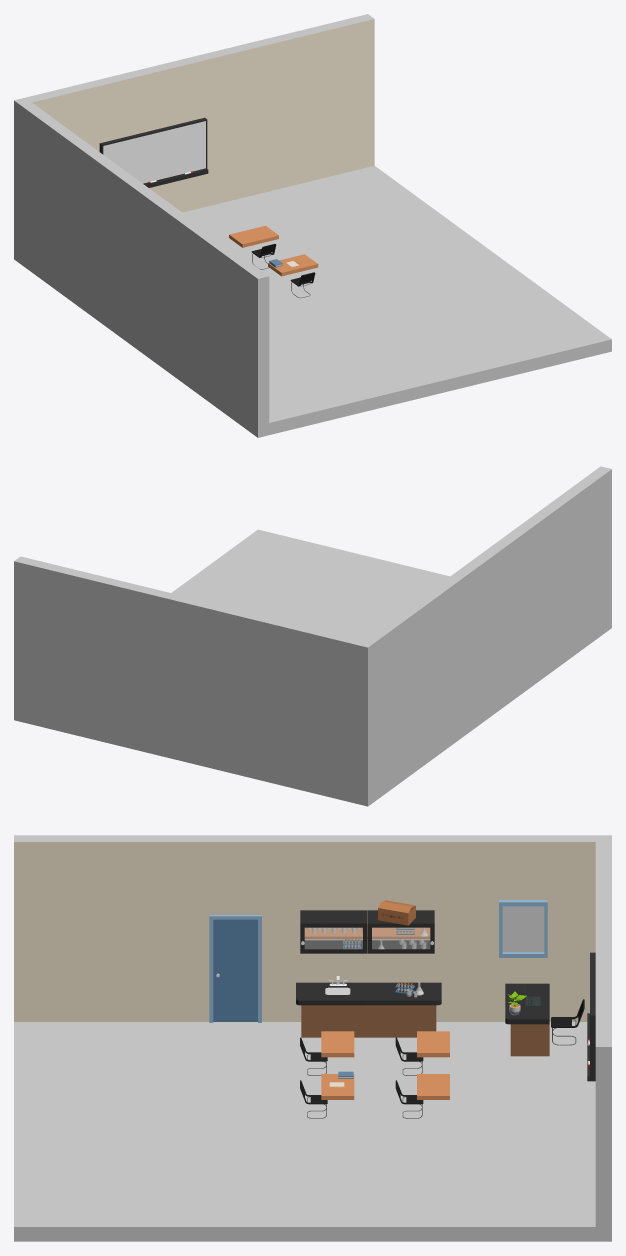
Rendered from ClassroomScene.fbx.
3 views of the same model, one above another, from view 1: azimuth 30°, elevation 25°; view 2: azimuth 150°, elevation 25°; view 3: azimuth 270°, elevation 25° (orthographic). The views are drawn at different scales.
Visible parts, largest first — view 1: Classroom, Cube.023, Desk.001, Desk.003; view 2: Classroom; view 3: Classroom, Cube.012, Cube.026, Cube.013, Cube.024, Cube.025, Cube.014, Cube.018, Cube.023, Desk.002, Desk, Desk.001 (+2 smaller).
Boxes of the visible parts, <box> form: Classroom: <box>14,14,611,437</box>; Cube.023: <box>99,117,208,187</box>; Desk.001: <box>229,225,278,247</box>; Desk.003: <box>268,254,318,276</box>; Classroom: <box>14,466,611,806</box>; Classroom: <box>14,835,611,1241</box>; Cube.012: <box>296,982,441,1037</box>; Cube.026: <box>209,915,261,1022</box>; Cube.013: <box>300,910,367,953</box>; Cube.024: <box>505,983,549,1056</box>; Cube.025: <box>499,900,547,957</box>; Cube.014: <box>367,910,434,953</box>; Cube.018: <box>304,924,430,938</box>; Cube.023: <box>587,952,595,1081</box>; Desk.002: <box>321,1031,354,1057</box>; Desk: <box>417,1031,449,1057</box>; Desk.001: <box>417,1074,449,1099</box>.
Bounding box in the file's own units: 3040 × 1305 × 3629.
